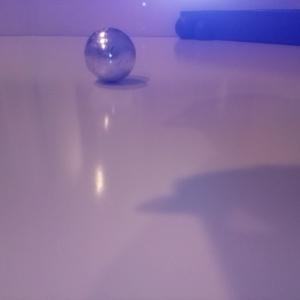alive_ball: (84, 27, 136, 83)
dead_ball: (174, 15, 195, 39), (192, 19, 210, 39)
